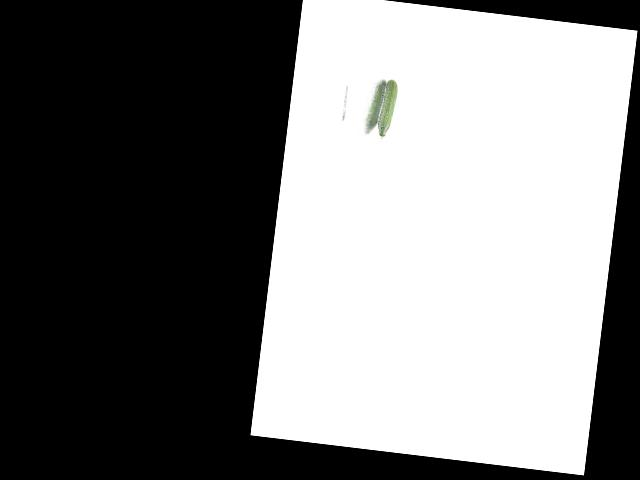cucumber: (375, 79, 398, 140)
